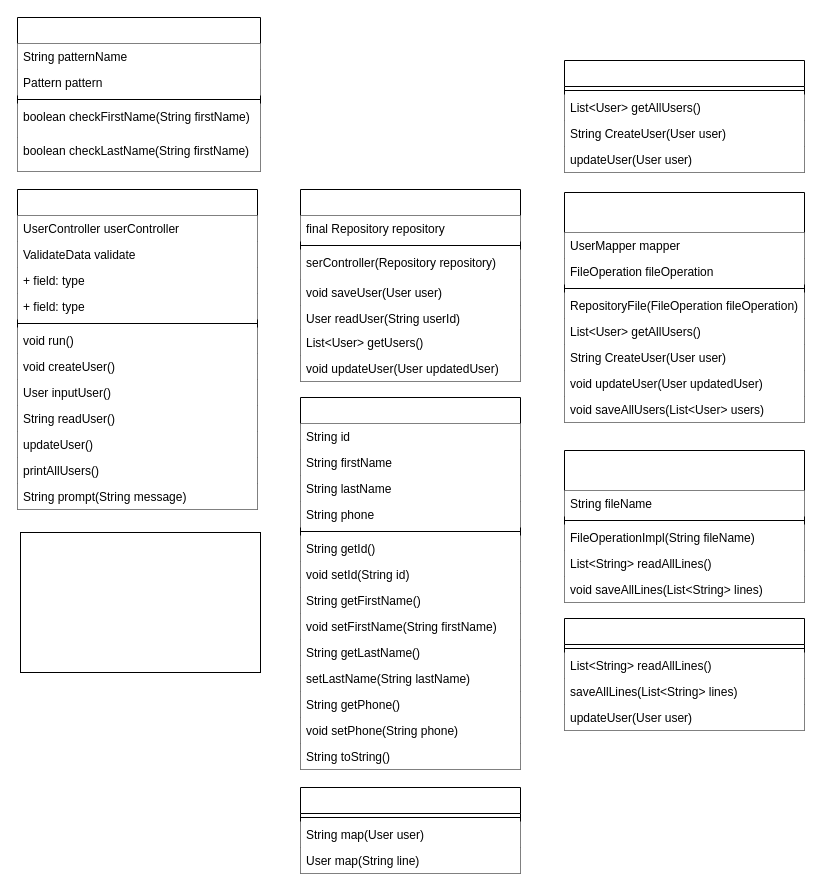
The diagram is 822 pixels wide and 894 high, and some of its shapes have lost their labels. Here are the shapes that lost their labels. From the top down, the box of each, then its label:
(16, 16, 260, 172): ValidateData
(564, 60, 804, 172): interface Repository
(300, 188, 520, 382): UserController
(564, 192, 804, 422): RepositoryFile implements Repository
(16, 188, 258, 510): ViewUser
(564, 450, 804, 602): FileOperationImpl implements FileOperation
(20, 532, 260, 672): Commands NONE READ CREATE UPDATE LIST DELETE EXIT
(300, 396, 520, 770): User
(564, 618, 804, 730): interface FileOperation
(300, 786, 520, 874): UserMapper
